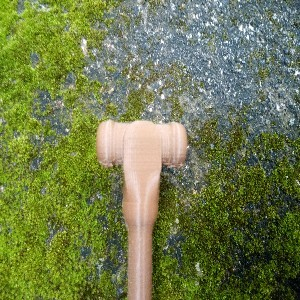palu: (96, 120, 188, 300)
